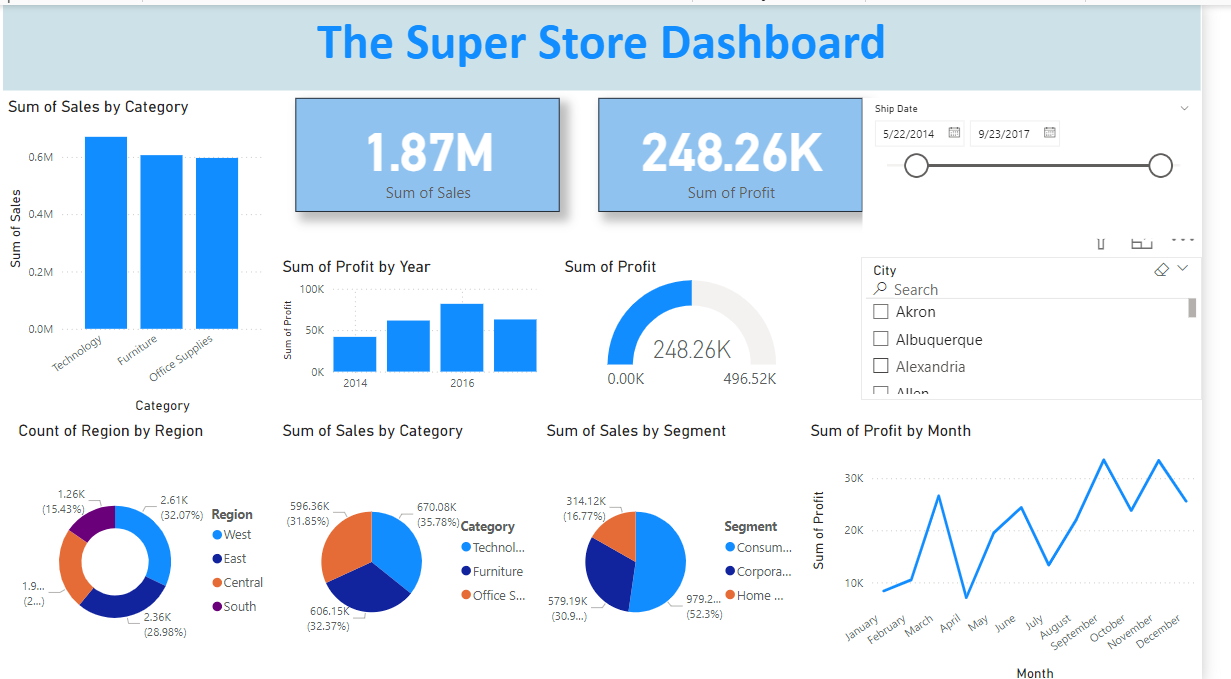

What the dashboard file says about the page in this screenshot:
{"tool":"powerbi","page":{"name":"Page 1","canvas":[1280,720],"ordinal":0},"visuals":[{"type":"columnChart","fields":{"Category":["Sample - Superstore.Category"],"Y":["Sum(Sample - Superstore.Sales)"]},"box":[10,97.5,280,340],"z":0},{"type":"donutChart","fields":{"Y":["CountNonNull(Sample - Superstore.Region)"],"Category":["Sample - Superstore.Region"]},"box":[20.8,440.3,279.7,279.7],"z":1000},{"type":"lineStackedColumnComboChart","fields":{"Category":["Sample - Superstore.Order Date.Variation.Date Hierarchy.Year","Sample - Superstore.Order Date.Variation.Date Hierarchy.Quarter","Sample - Superstore.Order Date.Variation.Date Hierarchy.Month","Sample - Superstore.Order Date.Variation.Date Hierarchy.Day"],"Y":["Sum(Sample - Superstore.Profit)"]},"box":[300.5,266.5,279.7,151.2],"z":2000},{"type":"lineStackedColumnComboChart","fields":{"Y2":["Sum(Sample - Superstore.Profit)"],"Category":["Sample - Superstore.Ship Date.Variation.Date Hierarchy.Month"]},"box":[860,440,420,280],"z":3000},{"type":"pieChart","fields":{"Category":["Sample - Superstore.Category"],"Y":["Sum(Sample - Superstore.Sales)"]},"box":[300,440,280,280],"z":4000},{"type":"pieChart","fields":{"Category":["Sample - Superstore.Segment"],"Y":["Sum(Sample - Superstore.Sales)"]},"box":[580,440,280,280],"z":5000},{"type":"gauge","fields":{"Y":["Sum(Sample - Superstore.Profit)"]},"box":[600,268,280,150],"z":6000},{"type":"card","fields":{"Values":["Sum(Sample - Superstore.Sales)"]},"box":[319.4,98.3,279.7,120.9],"z":7000},{"type":"card","fields":{"Values":["Sum(Sample - Superstore.Profit)"]},"box":[640.6,98.3,279.7,120.9],"z":8000},{"type":"textbox","box":[9.4,0,1269.9,90.7],"z":9000},{"type":"slicer","fields":{"Values":["Sample - Superstore.City"]},"box":[920,268,360,150],"z":10000},{"type":"slicer","fields":{"Values":["Sample - Superstore.Ship Date"]},"box":[920.3,98.5,359.2,149.4],"z":11000}]}

Visuals, with their boxes in screenshot pixels (x1, y1, x2, y2), scaled from the page's 1280x720 canvas onto the 1231x679 screenshot:
columnChart - Sample - Superstore.Category x Sum(Sample - Superstore.Sales): left=10, top=92, right=279, bottom=413
donutChart - CountNonNull(Sample - Superstore.Region) x Sample - Superstore.Region: left=20, top=415, right=289, bottom=678
lineStackedColumnComboChart - Sample - Superstore.Order Date.Variation.Date Hierarchy.Year x Sample - Superstore.Order Date.Variation.Date Hierarchy.Quarter: left=289, top=251, right=558, bottom=394
lineStackedColumnComboChart - Sum(Sample - Superstore.Profit) x Sample - Superstore.Ship Date.Variation.Date Hierarchy.Month: left=827, top=415, right=1230, bottom=678
pieChart - Sample - Superstore.Category x Sum(Sample - Superstore.Sales): left=289, top=415, right=558, bottom=678
pieChart - Sample - Superstore.Segment x Sum(Sample - Superstore.Sales): left=558, top=415, right=827, bottom=678
gauge - Sum(Sample - Superstore.Profit): left=577, top=253, right=846, bottom=394
card - Sum(Sample - Superstore.Sales): left=307, top=93, right=576, bottom=207
card - Sum(Sample - Superstore.Profit): left=616, top=93, right=885, bottom=207
textbox: left=9, top=0, right=1230, bottom=86
slicer - Sample - Superstore.City: left=885, top=253, right=1230, bottom=394
slicer - Sample - Superstore.Ship Date: left=885, top=93, right=1230, bottom=234
